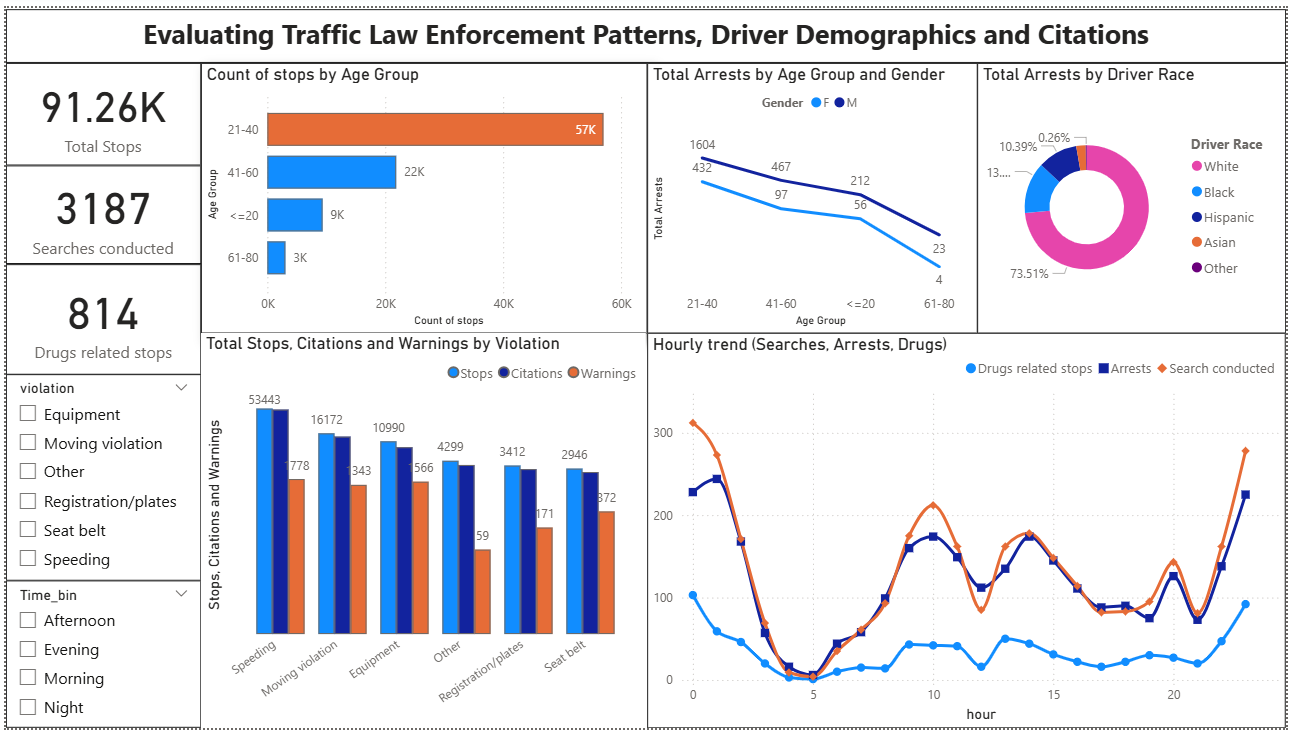

What the dashboard file says about the page in this screenshot:
{"tool":"powerbi","page":{"name":"Page 2","canvas":[1280,720],"ordinal":0},"visuals":[{"type":"card","fields":{"Values":["CountNonNull(Sheet1.driver_age)"]},"box":[0,55,195,102.5],"z":0},{"type":"card","fields":{"Values":["Sum(Sheet1.search_conducted)"]},"box":[0,157.5,195,98.8],"z":1000},{"type":"card","fields":{"Values":["Sum(Sheet1.drugs_related_stop)"]},"box":[0,256.2,195,110],"z":2000},{"type":"textbox","box":[0,1.2,1280.3,53.8],"z":3000},{"type":"slicer","fields":{"Values":["Sheet1.violation"]},"box":[0,366.2,195,206.2],"z":4000},{"type":"slicer","fields":{"Values":["Sheet1.Time_bin"]},"box":[0,572.5,195,147.5],"z":5000},{"type":"clusteredBarChart","fields":{"Category":["Sheet1.age_group"],"Y":["CountNonNull(Sheet1.driver_age)"]},"box":[195.3,55.3,446,270],"z":6000},{"type":"clusteredColumnChart","title":"Total Stops, Citations and Warnings by Violation","fields":{"Category":["Query1.violation"],"Y":["Sum(Query1.TOT_VIOLATIONS)","Sum(Query1.TOT_CITATIONS)","Sum(Query1.TOT_WARNINGS)"]},"box":[195.4,325.4,446.2,394.6],"z":7000},{"type":"lineChart","title":"Hourly trend (Searches, Arrests, Drugs)","fields":{"Category":["Sheet1.hour"],"Y":["Sum(Sheet1.drugs_related_stop)","Sum(Sheet1.is_arrested)","Sum(Sheet1.search_conducted)"]},"box":[641.2,325,638.8,395],"z":8000},{"type":"lineChart","fields":{"Category":["Sheet1.age_group"],"Series":["Sheet1.driver_gender"],"Y":["Sum(Sheet1.is_arrested)"]},"box":[641.3,55.3,330,270],"z":9000},{"type":"donutChart","fields":{"Category":["Sheet1.driver_race"],"Y":["CountNonNull(Sheet1.is_arrested)"]},"box":[971.2,55,308.8,270],"z":10000}]}

Visuals, with their boxes in screenshot pixels (x1, y1, x2, y2), scaled from the page's 1280x720 canvas onto the 1290x733 screenshot:
card - CountNonNull(Sheet1.driver_age): box=[0, 56, 197, 160]
card - Sum(Sheet1.search_conducted): box=[0, 160, 197, 261]
card - Sum(Sheet1.drugs_related_stop): box=[0, 261, 197, 373]
textbox: box=[0, 1, 1289, 56]
slicer - Sheet1.violation: box=[0, 373, 197, 583]
slicer - Sheet1.Time_bin: box=[0, 583, 197, 732]
clusteredBarChart - Sheet1.age_group x CountNonNull(Sheet1.driver_age): box=[197, 56, 646, 331]
"Total Stops, Citations and Warnings by Violation" clusteredColumnChart: box=[197, 331, 647, 732]
"Hourly trend (Searches, Arrests, Drugs)" lineChart: box=[646, 331, 1289, 732]
lineChart - Sheet1.age_group x Sheet1.driver_gender: box=[646, 56, 979, 331]
donutChart - Sheet1.driver_race x CountNonNull(Sheet1.is_arrested): box=[979, 56, 1289, 331]
